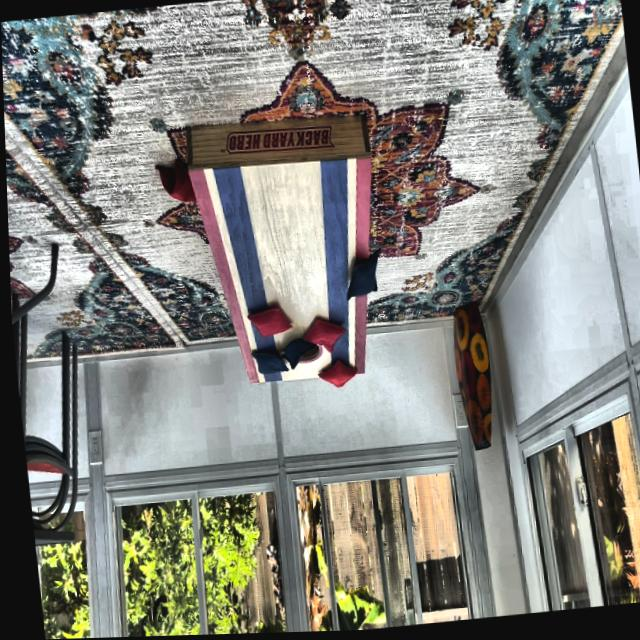blue-bean-bag: (340, 253, 382, 301), (262, 334, 302, 364), (248, 347, 285, 378)
board: (214, 158, 370, 385)
hole: (285, 341, 320, 367)
red-bean-bag: (298, 315, 345, 358), (154, 160, 195, 208), (244, 306, 291, 340), (313, 360, 356, 392)
